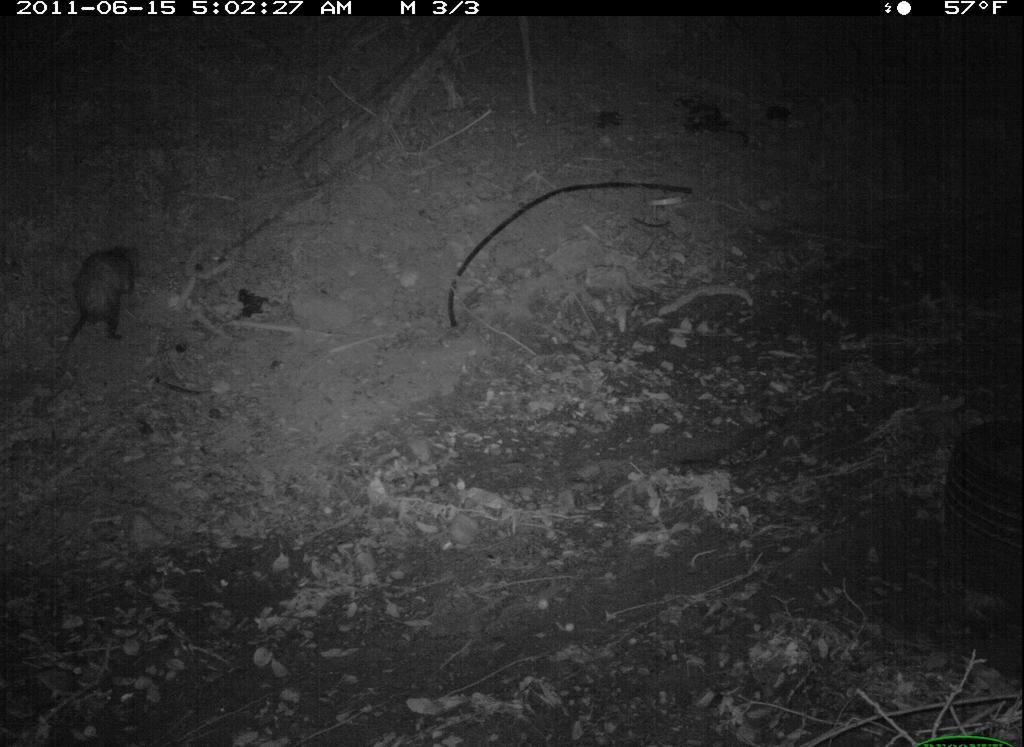opossum: (53, 237, 145, 360)
